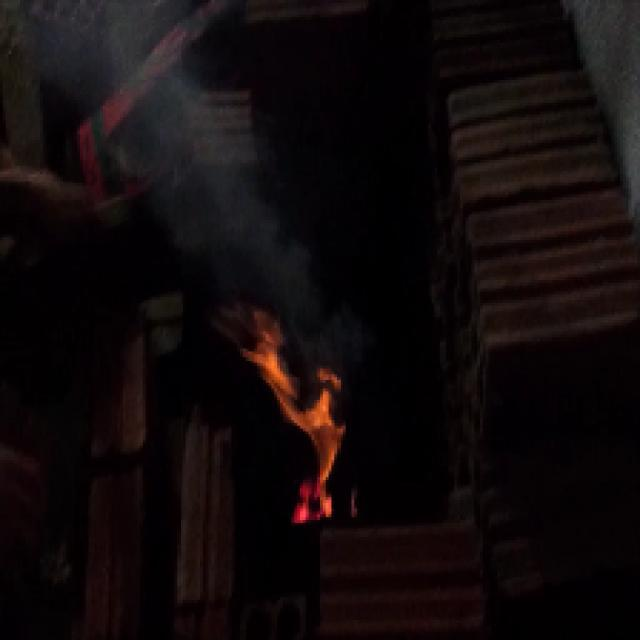Fire: (242, 344, 369, 501)
Smoke: (164, 152, 257, 268)
